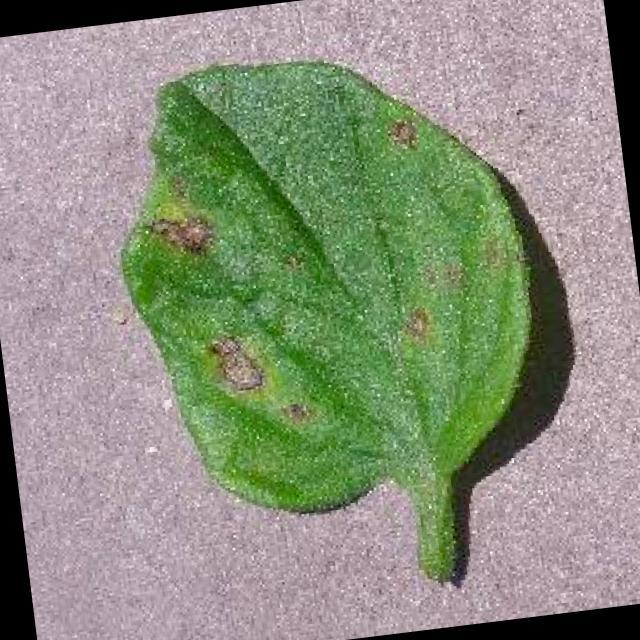Tomato Septoria spot leaf: (98, 24, 550, 532)
